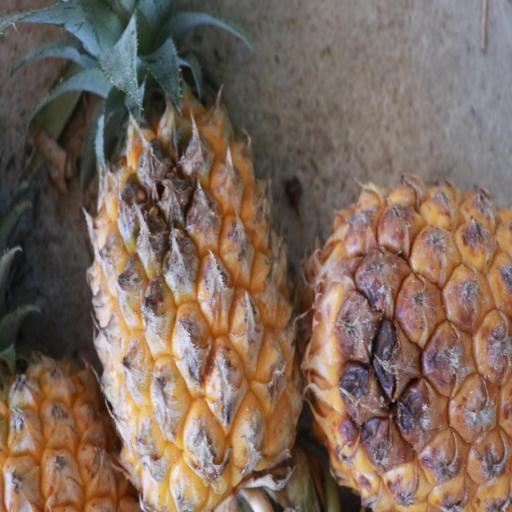Pineapple - v8 v1: (87, 2, 308, 510), (300, 191, 510, 512)
